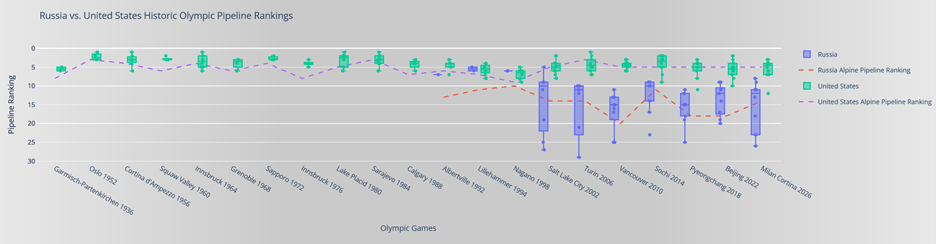

The page's visual inventory and layout, read from the dashboard file:
{"tool":"tableau","page":{"name":"Dashboard 1","canvas":[1000,1000],"units":"permille","ordinal":0},"visuals":[{"type":"worksheet","title":"Sheet 1","mark":"Automatic","box":[2.1,4.2,888.5,991.5]},{"type":"filter","title":"Sheet 1","param":"[federated.146amrn0jlxjl911misc91clc58j].[none:Medal:ok]","box":[890.6,4.2,107.3,47.2]},{"type":"filter","title":"Sheet 1","param":"[federated.146amrn0jlxjl911misc91clc58j].[none:USOC Master Competition Set Name:","box":[890.6,51.4,107.3,150.1]},{"type":"legend","title":"Sheet 1","param":"[federated.146amrn0jlxjl911misc91clc58j].[cnt:Medal:qk]","box":[890.6,201.5,107.3,43]},{"type":"filter","title":"Sheet 1","param":"[federated.146amrn0jlxjl911misc91clc58j].[none:Event Gender:nk]","box":[890.6,244.4,107.3,64.2]},{"type":"filter","title":"Sheet 1","param":"[federated.146amrn0jlxjl911misc91clc58j].[none:Event Name Short:nk]","box":[890.6,308.6,107.3,121.4]}]}

Visuals, with their boxes on the dashboard's canvas, which has no fixed pixel size, in thousandths of its width and height (x1, y1, x2, y2). These are canvas units, not pixel positions in the 936x244 screenshot, which may show the page scaled, cropped or inside an application window:
"Sheet 1" worksheet: <box>2,4,891,996</box>
"Sheet 1" filter: <box>891,4,998,51</box>
"Sheet 1" filter: <box>891,51,998,202</box>
"Sheet 1" legend: <box>891,202,998,244</box>
"Sheet 1" filter: <box>891,244,998,309</box>
"Sheet 1" filter: <box>891,309,998,430</box>
